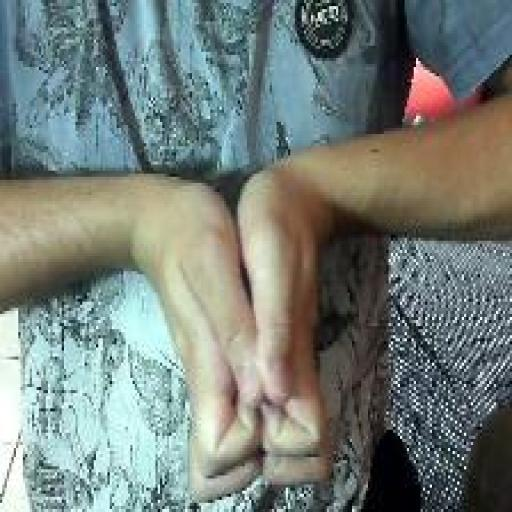I -boar-: (152, 170, 335, 504)
